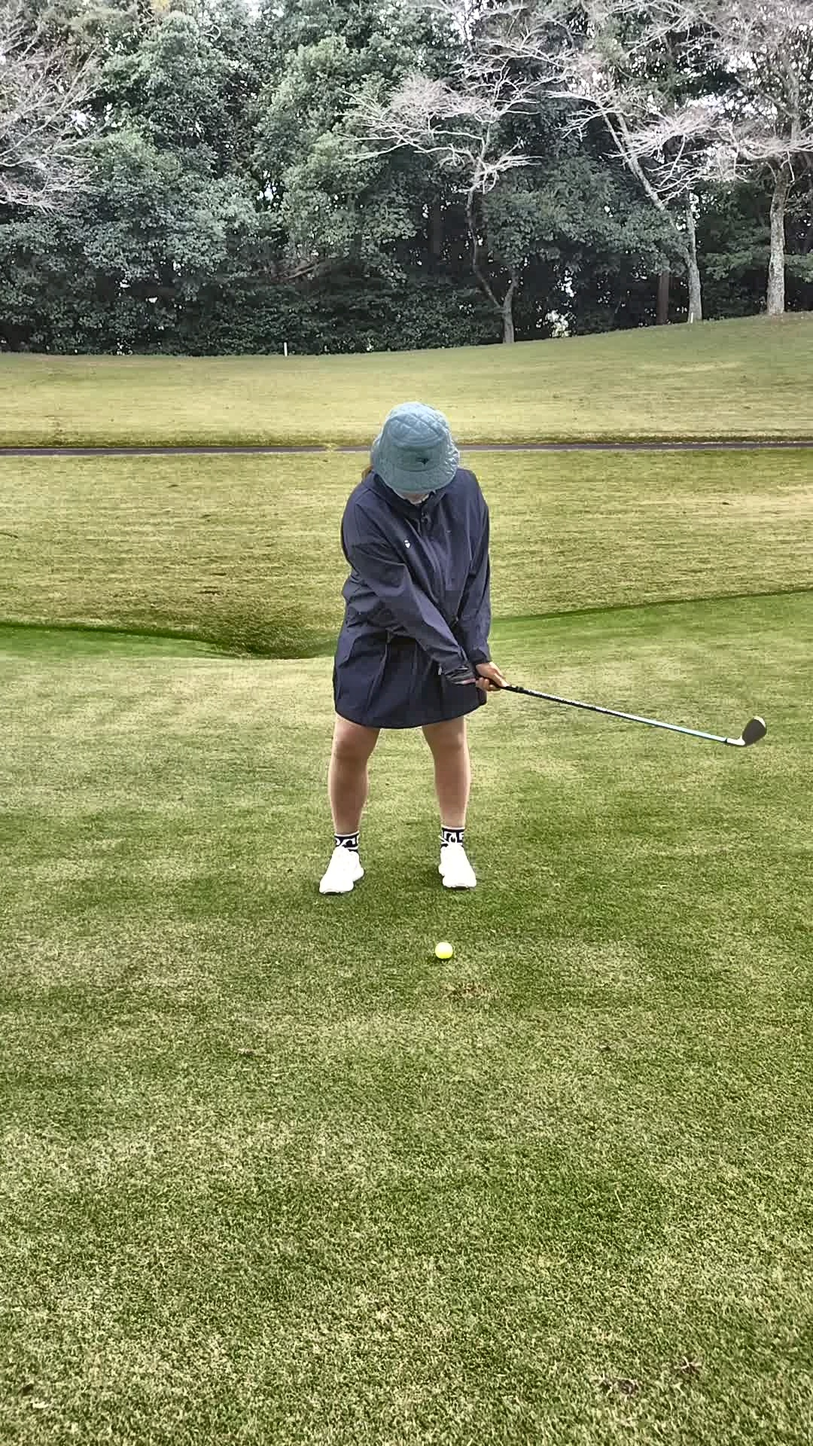clubhead: (662, 675, 813, 843)
